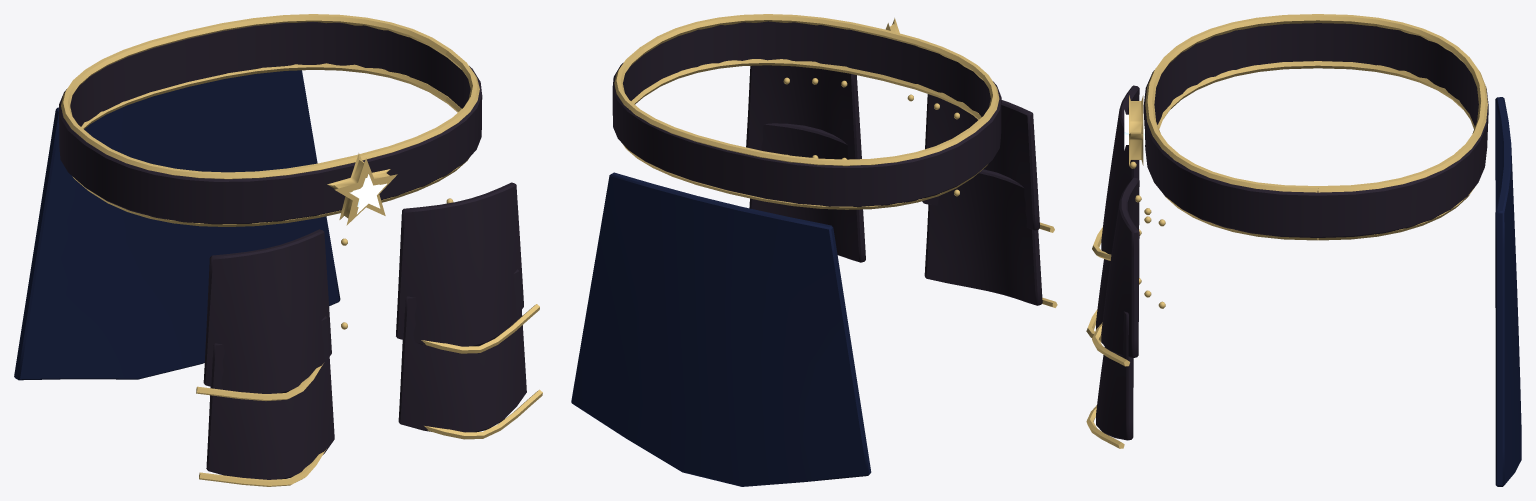
Rendered from boss_starfall_hunter_inner_garment.glb.
3 renders of one model, left to right at view 1: azimuth 30°, elevation 25°; view 2: azimuth 150°, elevation 25°; view 3: azimuth 270°, elevation 25°, orthographic. The views are drawn at different scales.
Visible parts, largest first — view 1: boss_starfall_hunter_inner_garment, AT_thigh_R, AT_thigh_L; view 2: boss_starfall_hunter_inner_garment, AT_thigh_R, AT_thigh_L; view 3: boss_starfall_hunter_inner_garment, AT_thigh_L, AT_thigh_R.
Boxes of the visible parts, box(x1,y1,x2,y2) form: boss_starfall_hunter_inner_garment: box(14, 14, 482, 380); AT_thigh_R: box(196, 229, 347, 486); AT_thigh_L: box(396, 182, 542, 439); boss_starfall_hunter_inner_garment: box(571, 14, 1001, 486); AT_thigh_R: box(907, 94, 1057, 307); AT_thigh_L: box(746, 65, 865, 262); boss_starfall_hunter_inner_garment: box(1124, 14, 1521, 486); AT_thigh_L: box(1086, 177, 1165, 448); AT_thigh_R: box(1086, 85, 1151, 341).
Bounding box in the file's own units: 0.4641 × 0.4265 × 0.4788.
